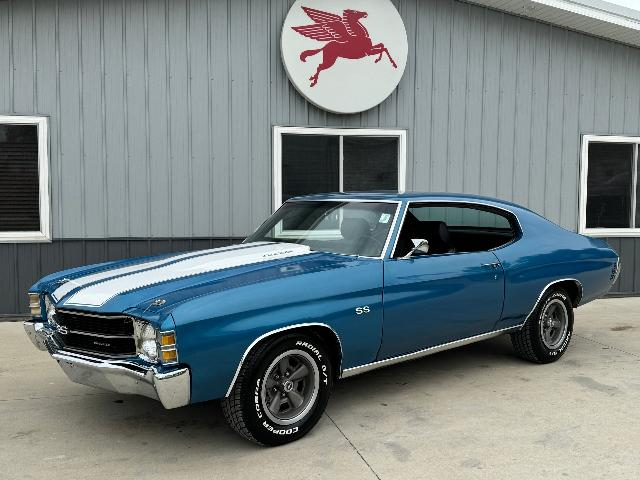chevelle-1972: (24, 190, 620, 445)
